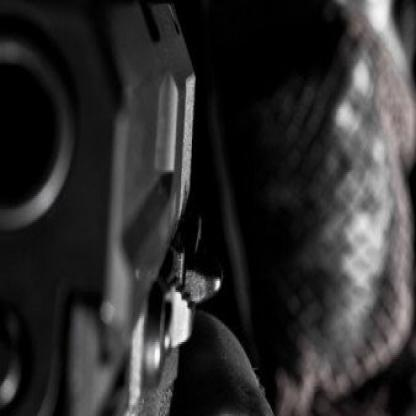gun: (0, 0, 221, 415)
